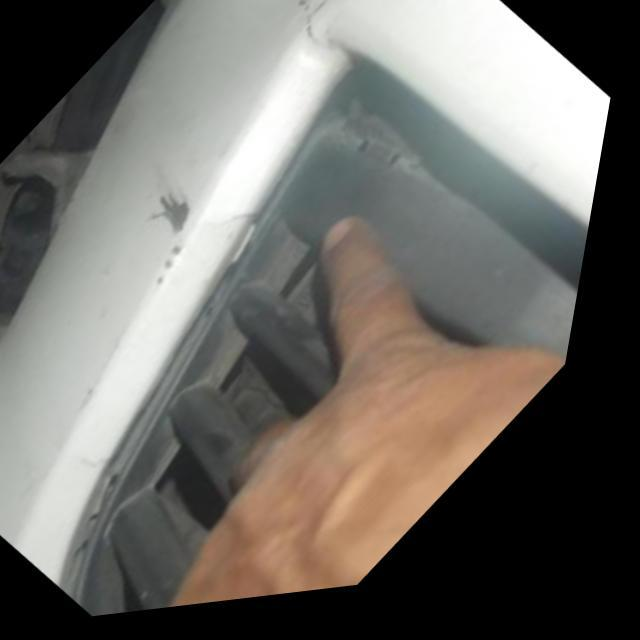crack: (152, 186, 208, 248)
